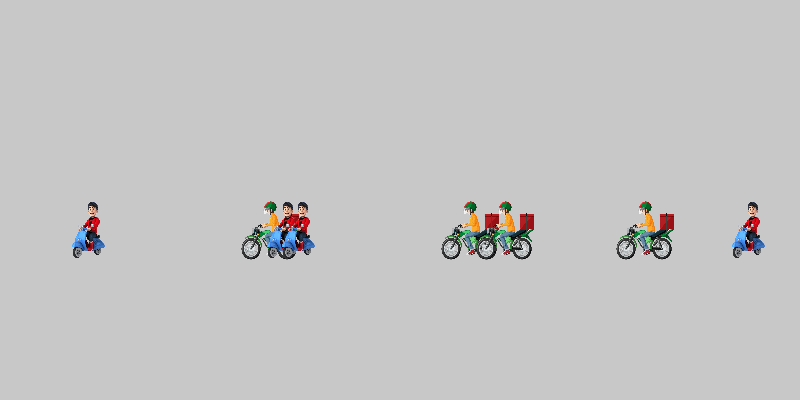helmet: (240, 200, 300, 260), (440, 200, 500, 260), (475, 200, 535, 260), (615, 200, 675, 260)
no_helmet: (60, 200, 120, 260), (255, 200, 315, 260), (270, 200, 330, 260), (720, 200, 780, 260)
